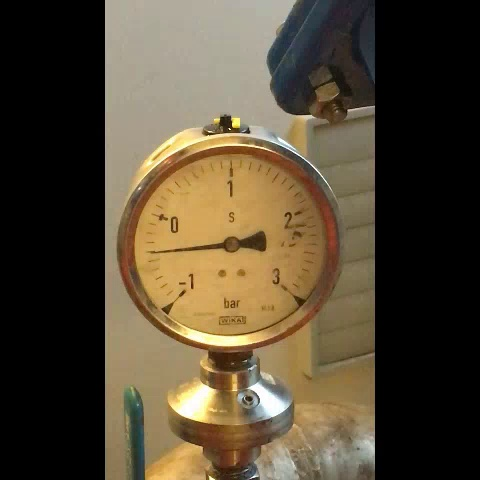Round_Meter: (132, 151, 334, 340)
